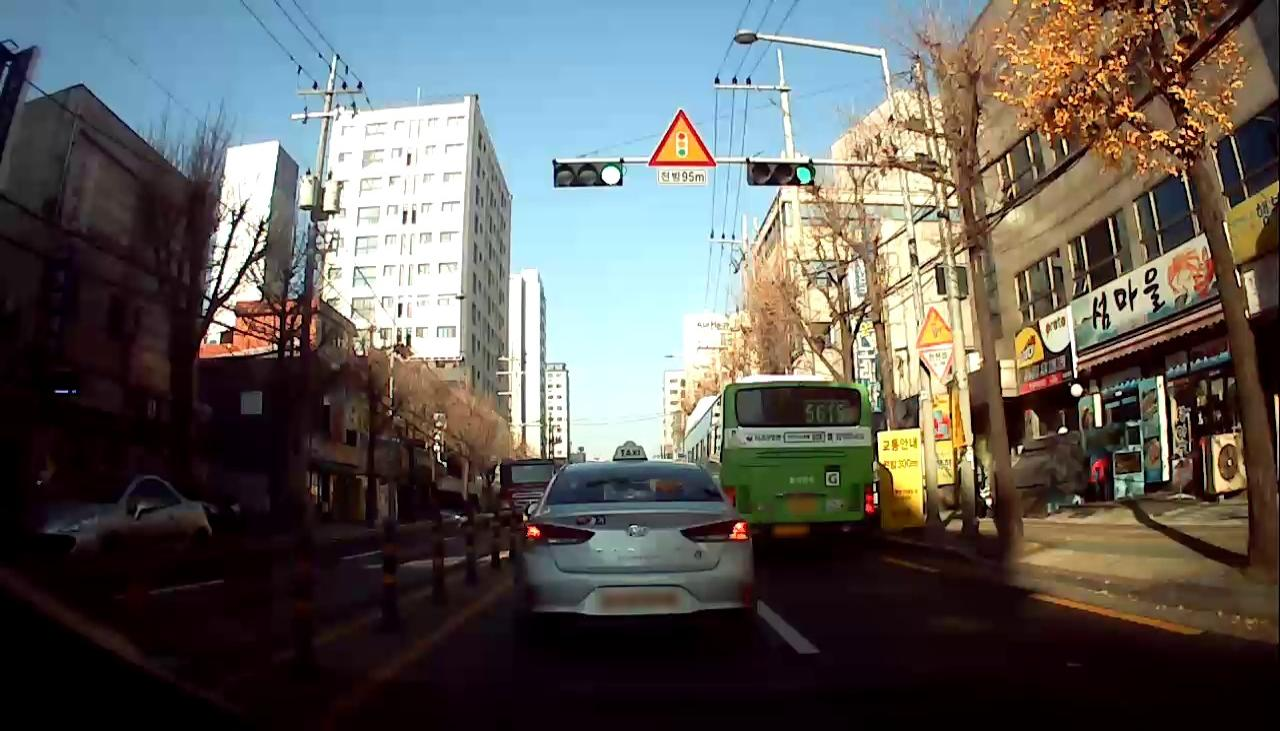Green Light: (598, 163, 622, 186), (794, 163, 815, 184)
